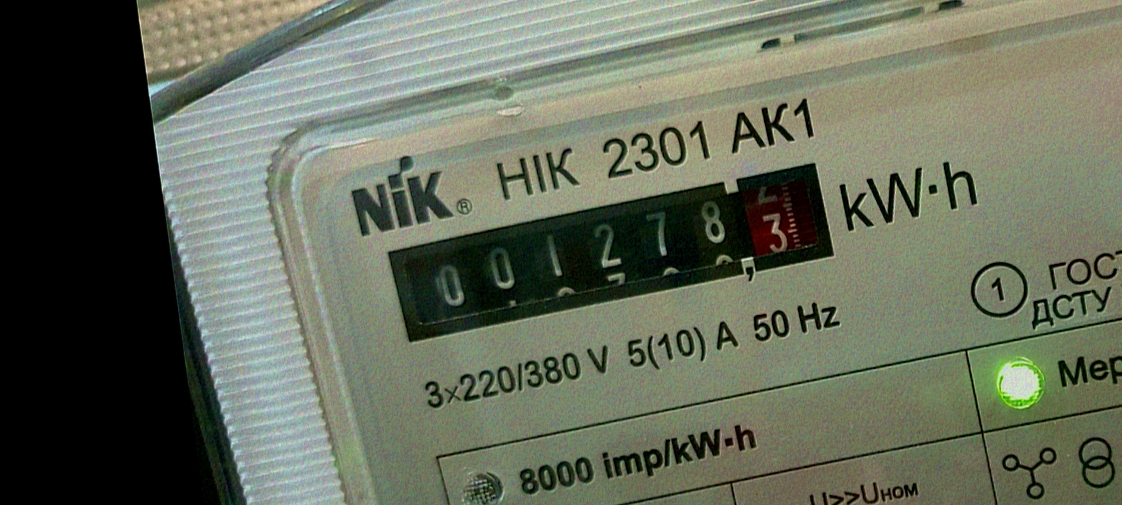0: (435, 260, 469, 311), (486, 244, 517, 294)
1: (543, 231, 566, 281)
2: (590, 221, 623, 271), (752, 184, 781, 208)
3: (759, 208, 791, 255)
7: (644, 209, 673, 260)
8: (697, 198, 729, 248)
screen: (363, 151, 855, 356)
